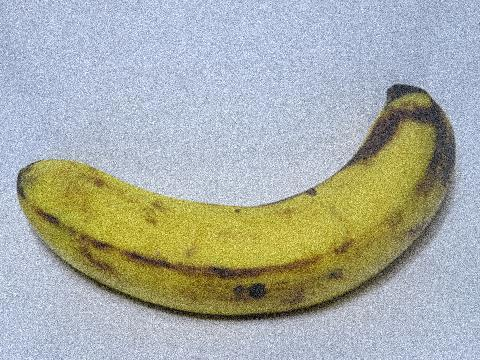ripe: (11, 67, 468, 348)
